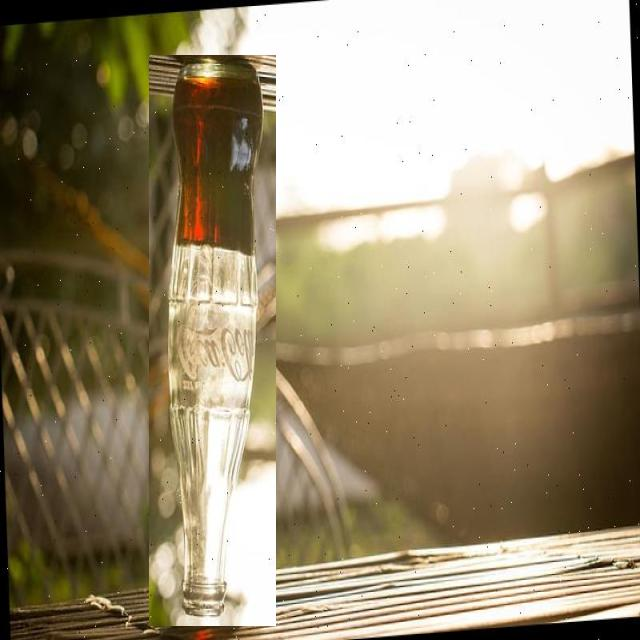coca-cola: (149, 55, 276, 626)
